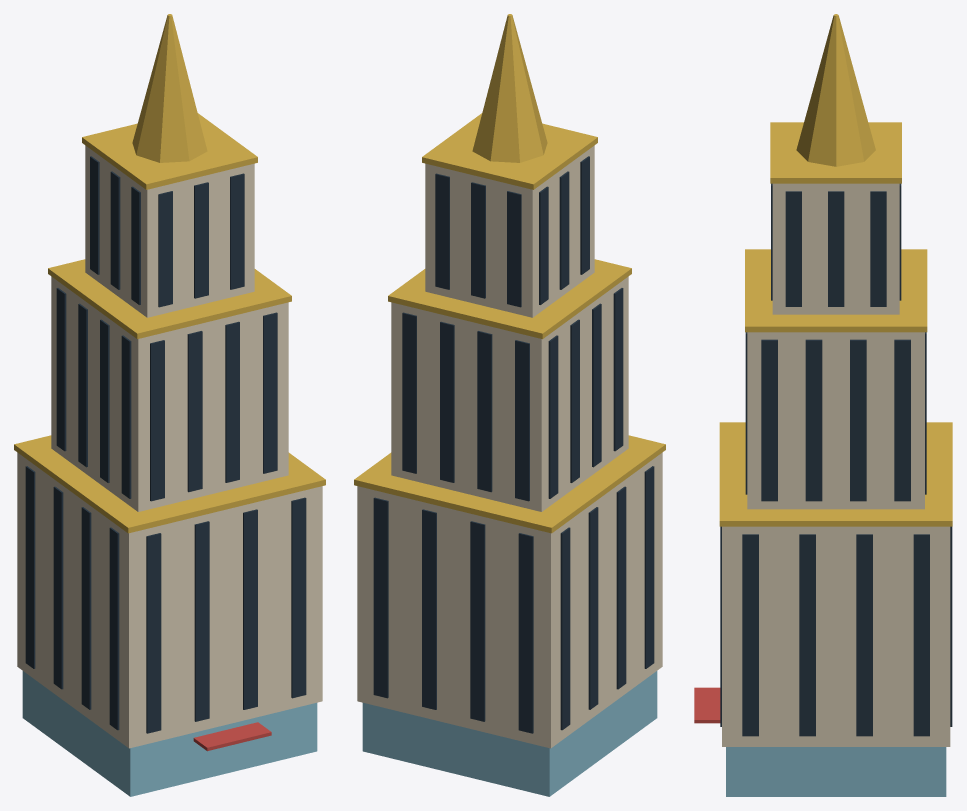
Rendered from tower_1.glb.
3 views of the same model, side by side, from view 1: azimuth 30°, elevation 25°; view 2: azimuth 150°, elevation 25°; view 3: azimuth 270°, elevation 25° (orthographic). The views are drawn at different scales.
Parts seen in each view (by area): view 1: Cube.001; view 2: Cube.001; view 3: Cube.001.
Boxes of the visible parts, bbox=[...] form: Cube.001: bbox=[14, 14, 325, 796]; Cube.001: bbox=[354, 14, 665, 796]; Cube.001: bbox=[694, 14, 952, 796].
Size of the model in its own units: 18.4 by 64 by 20.4.
